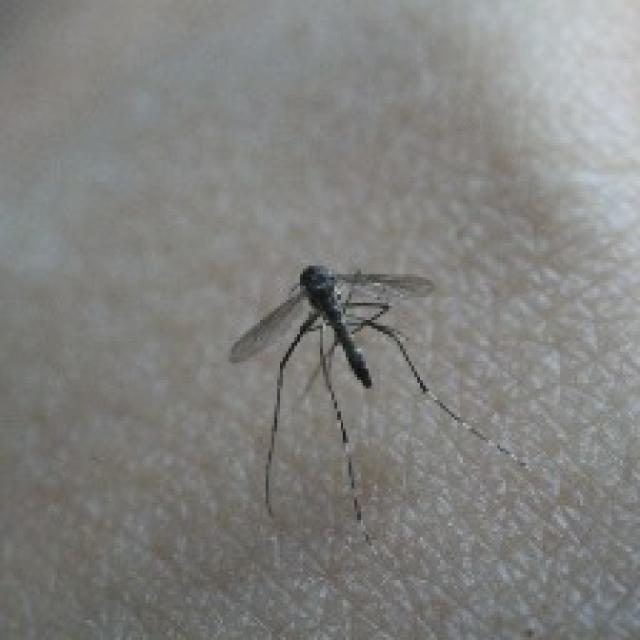aedes: (226, 260, 528, 546)
